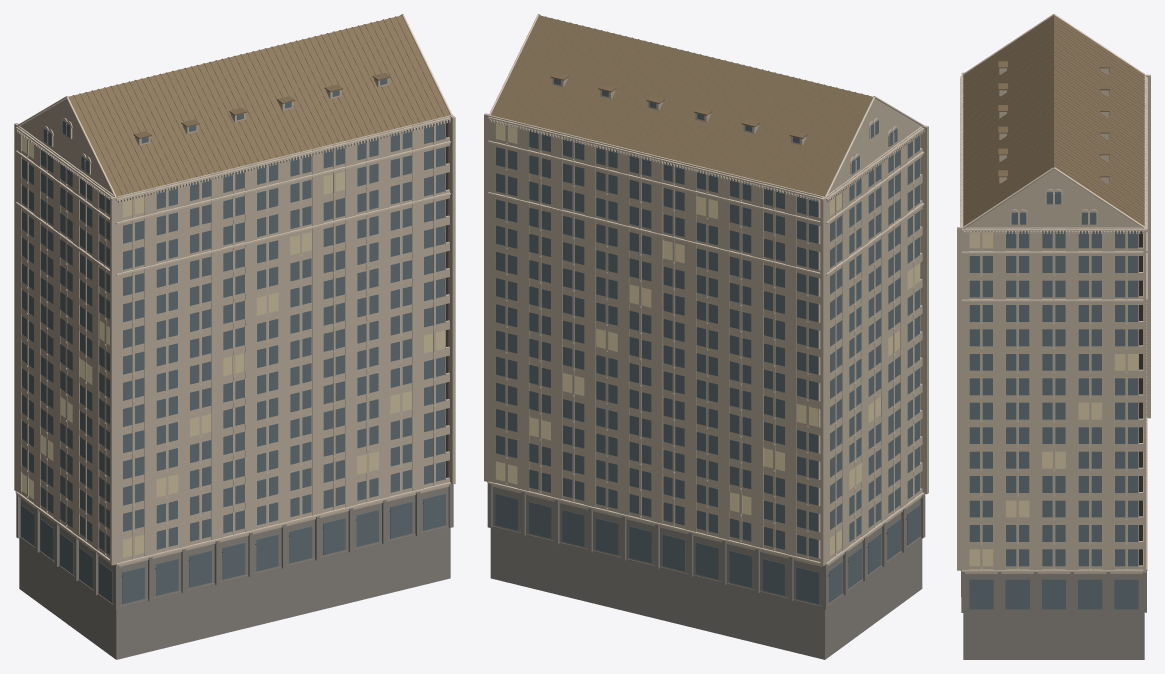
Rendered from monroe_building.glb.
3 views of the same model, side by side, from view 1: azimuth 30°, elevation 25°; view 2: azimuth 150°, elevation 25°; view 3: azimuth 270°, elevation 25° (orthographic). The views are drawn at different scales.
Visible parts, largest first — view 1: Warm pale terracotta wall piers, Individual office glazing, Spanish roof tiles, Granite street base, Carved pale terracotta surrounds, Night occupied office glazing, Dark recessed sash and backing; view 2: Warm pale terracotta wall piers, Individual office glazing, Spanish roof tiles, Granite street base, Carved pale terracotta surrounds, Night occupied office glazing; view 3: Warm pale terracotta wall piers, Individual office glazing, Spanish roof tiles, Granite street base, Carved pale terracotta surrounds, Night occupied office glazing, Dark recessed sash and backing.
Boxes of the visible parts, left/top/right/bottom form: Warm pale terracotta wall piers: left=14, top=78, right=455, bottom=566; Individual office glazing: left=21, top=78, right=445, bottom=603; Spanish roof tiles: left=68, top=15, right=450, bottom=196; Granite street base: left=16, top=484, right=453, bottom=659; Carved pale terracotta surrounds: left=15, top=14, right=452, bottom=565; Night occupied office glazing: left=21, top=136, right=445, bottom=557; Dark recessed sash and backing: left=446, top=120, right=448, bottom=477; Warm pale terracotta wall piers: left=484, top=78, right=928, bottom=566; Individual office glazing: left=495, top=78, right=920, bottom=603; Spanish roof tiles: left=490, top=14, right=873, bottom=196; Granite street base: left=487, top=482, right=925, bottom=659; Carved pale terracotta surrounds: left=487, top=14, right=924, bottom=565; Night occupied office glazing: left=496, top=121, right=919, bottom=556; Warm pale terracotta wall piers: left=957, top=68, right=1150, bottom=573; Individual office glazing: left=969, top=68, right=1138, bottom=609; Spanish roof tiles: left=963, top=15, right=1144, bottom=226; Granite street base: left=961, top=570, right=1146, bottom=659; Carved pale terracotta surrounds: left=960, top=14, right=1147, bottom=571; Night occupied office glazing: left=969, top=231, right=1138, bottom=566; Dark recessed sash and backing: left=972, top=231, right=1142, bottom=565.
Size of the model in its own units: 56.25 by 82.12 by 29.26.
